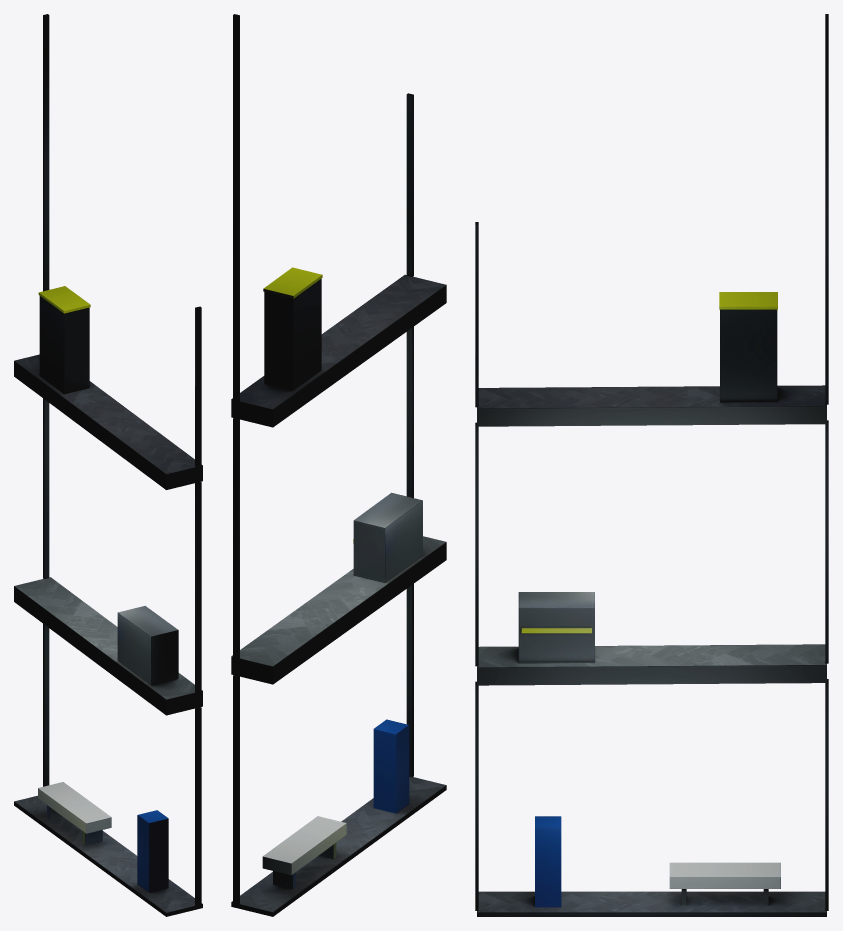
File: web-front-v02.glb
3 views of the same model, side by side, from view 1: azimuth 30°, elevation 25°; view 2: azimuth 150°, elevation 25°; view 3: azimuth 270°, elevation 25° (orthographic). The views are drawn at different scales.
Parts seen in each view (by area): view 1: WEB_BAKED_FRONT; view 2: WEB_BAKED_FRONT; view 3: WEB_BAKED_FRONT.
Part boxes in pixels (box(x1,y1,x2,y2)): WEB_BAKED_FRONT: box(14, 14, 202, 916); WEB_BAKED_FRONT: box(231, 14, 446, 916); WEB_BAKED_FRONT: box(475, 14, 828, 916).
Bounding box in the file's own units: 0.332 × 6.77 × 2.41.
1 material, 1 textured.
